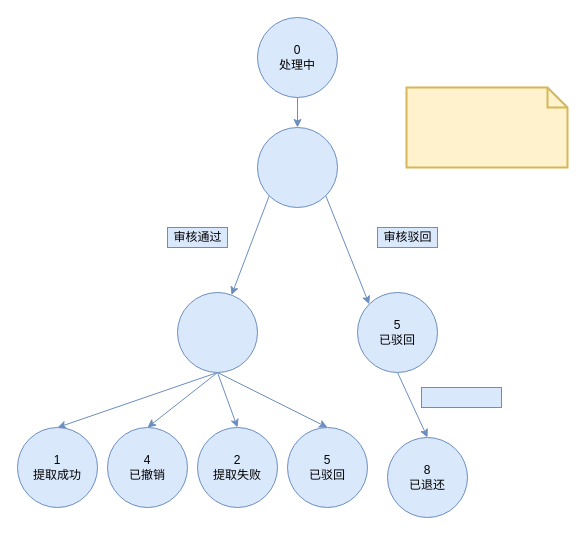
This 586x535 diagram has some shape labels left out. The shapes that lost their labels are listed below. From the top down, each one's centre as x and y in pixels, then its label:
At point 486,127: "提取单状态流转".
At point 297,167: "7 待审核".
At point 217,332: "6 待付款".
At point 461,397: "账户加账后".
